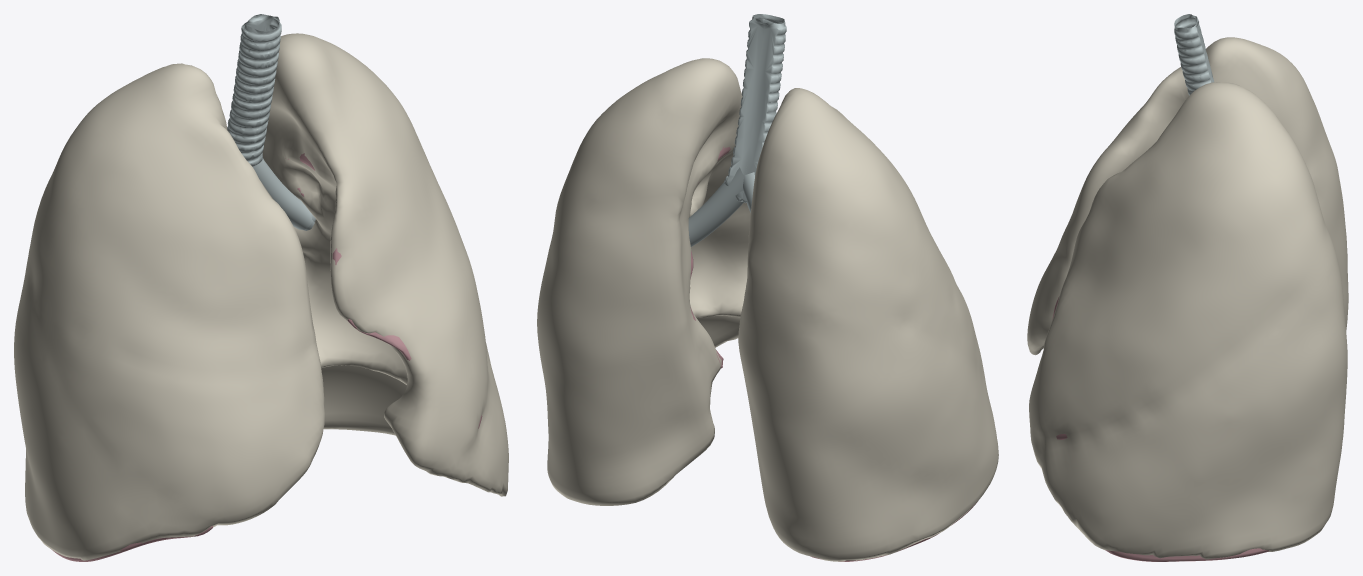
Rendered from detail-respiratory-thorax.glb.
The picture shows the model from 3 angles, left to right: view 1: azimuth 30°, elevation 25°; view 2: azimuth 150°, elevation 25°; view 3: azimuth 270°, elevation 25°; orthographic projection. The views are drawn at different scales.
Visible parts, largest first — view 1: za-ea69cac7af2f4e11, za-32e5d7e1d2f0827a, za-3d79616613fd1f75, za-0667ce7832fc9367; view 2: za-ea69cac7af2f4e11, za-32e5d7e1d2f0827a, za-3d79616613fd1f75; view 3: za-ea69cac7af2f4e11, za-32e5d7e1d2f0827a, za-2de3d6737090b6f5.
Boxes of the visible parts, x1,y1,x2,y2 form: za-ea69cac7af2f4e11: (14, 33, 508, 560); za-32e5d7e1d2f0827a: (227, 14, 281, 166); za-3d79616613fd1f75: (252, 159, 312, 229); za-0667ce7832fc9367: (285, 153, 482, 428); za-ea69cac7af2f4e11: (537, 58, 998, 561); za-32e5d7e1d2f0827a: (724, 14, 786, 202); za-3d79616613fd1f75: (688, 167, 743, 246); za-ea69cac7af2f4e11: (1027, 37, 1348, 559); za-32e5d7e1d2f0827a: (1174, 14, 1214, 95); za-2de3d6737090b6f5: (1105, 548, 1269, 561).
Size of the model in its own units: 0.2634 by 0.2936 by 0.1882.
